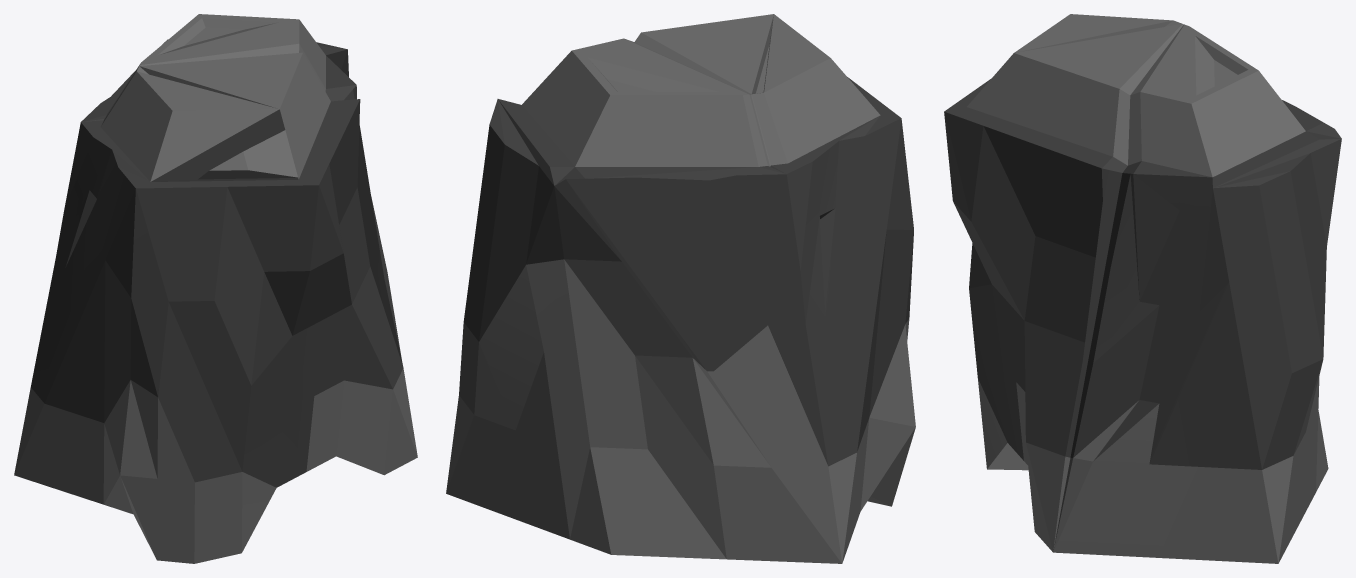
Rendered from SpaceRock2.glb.
3 renders of one model, left to right at view 1: azimuth 30°, elevation 25°; view 2: azimuth 150°, elevation 25°; view 3: azimuth 270°, elevation 25°, orthographic. The views are drawn at different scales.
Visible parts, largest first — view 1: cliff_2; view 2: cliff_2; view 3: cliff_2.
Part boxes in pixels (x1,y1,x2,y2): cliff_2: [14, 14, 417, 563]; cliff_2: [446, 14, 915, 563]; cliff_2: [944, 14, 1341, 563].
Bounding box in the file's own units: 13.65 × 16.3 × 13.01.
1 material, 1 textured.
